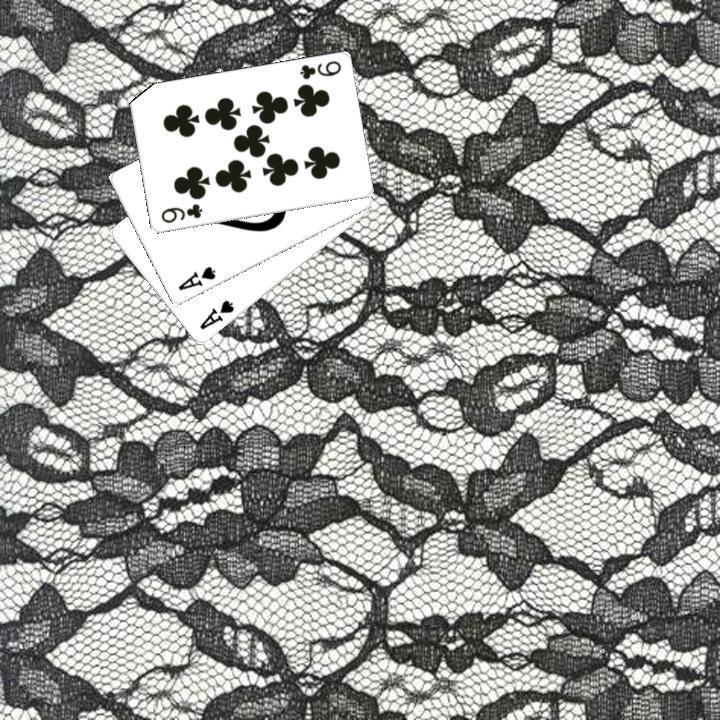9: (156, 200, 204, 226), (295, 56, 343, 82)
A: (195, 296, 236, 332), (174, 262, 218, 293)
